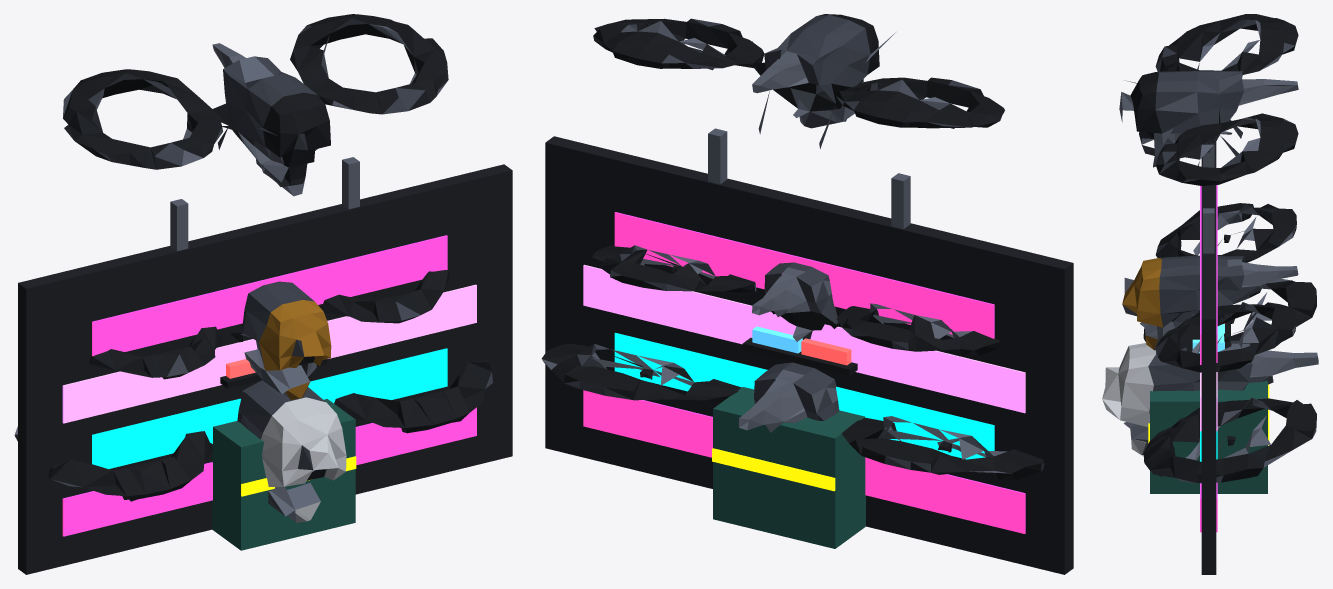
The model's file is drone-props.glb.
3 renders of one model, left to right at view 1: azimuth 30°, elevation 25°; view 2: azimuth 150°, elevation 25°; view 3: azimuth 270°, elevation 25°, orthographic. The views are drawn at different scales.
Visible parts, largest first — view 1: drone-ad, drone-delivery, drone-patrol; view 2: drone-ad, drone-delivery, drone-patrol; view 3: drone-ad, drone-delivery, drone-patrol.
Boxes of the visible parts, bbox=[...] form: drone-ad: bbox=[18, 14, 512, 574]; drone-delivery: bbox=[89, 269, 449, 550]; drone-patrol: bbox=[14, 359, 492, 522]; drone-ad: bbox=[545, 14, 1073, 574]; drone-delivery: bbox=[592, 245, 999, 548]; drone-patrol: bbox=[541, 326, 1044, 481]; drone-ad: bbox=[1119, 14, 1298, 574]; drone-delivery: bbox=[1122, 203, 1298, 493]; drone-patrol: bbox=[1102, 279, 1318, 483].
Bounding box in the file's own units: 3.4 × 2.99 × 1.47.
1 material, 1 textured.
